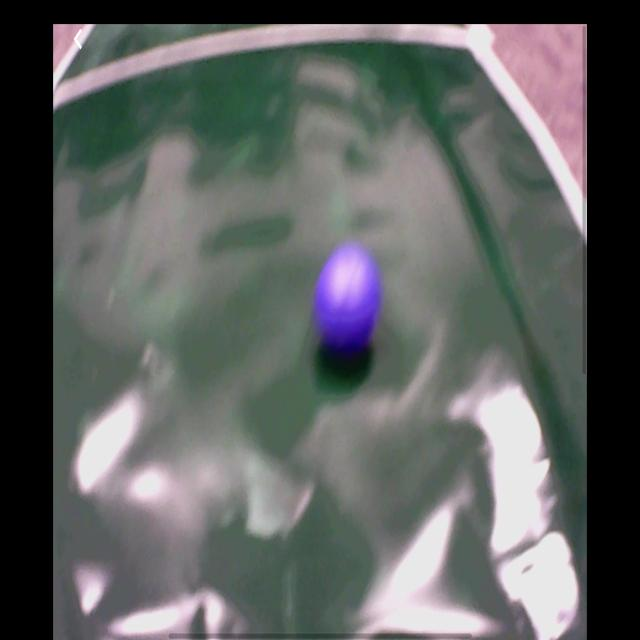ball: (313, 243, 384, 361)
